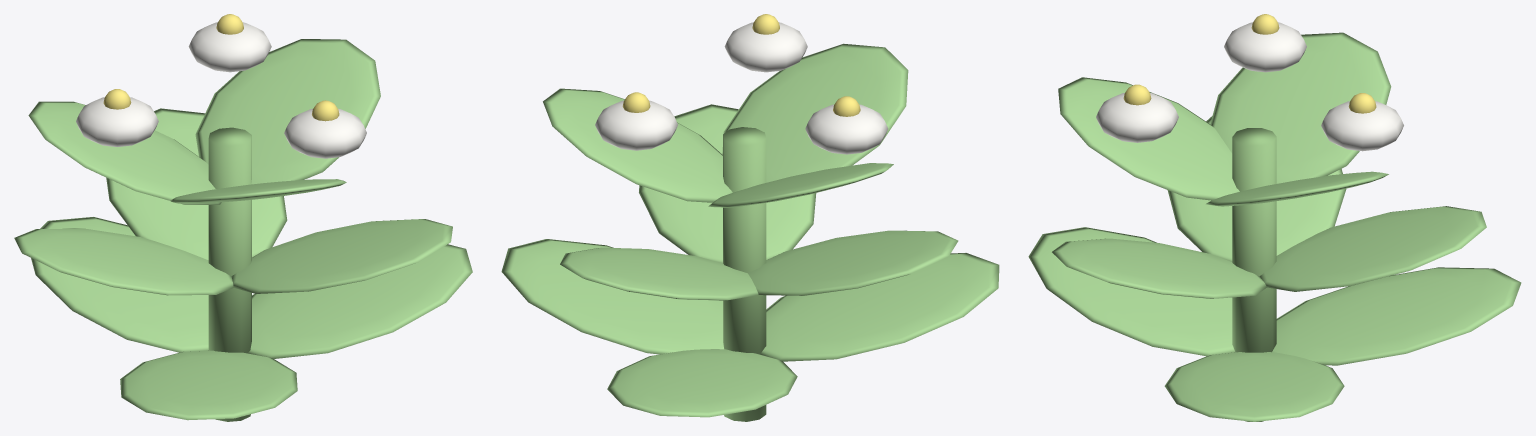
Rendered from VCrop_Potato_4.fbx.
The picture shows the model from 3 angles, left to right: view 1: azimuth 30°, elevation 25°; view 2: azimuth 150°, elevation 25°; view 3: azimuth 270°, elevation 25°; orthographic projection.
Visible parts, largest first — view 1: VCrop_Potato_4; view 2: VCrop_Potato_4; view 3: VCrop_Potato_4.
Boxes of the visible parts, bbox=[...] form: VCrop_Potato_4: bbox=[14, 14, 472, 421]; VCrop_Potato_4: bbox=[501, 14, 999, 421]; VCrop_Potato_4: bbox=[1028, 14, 1521, 421].
Size of the model in its own units: 0.3691 by 0.275 by 0.3559.
